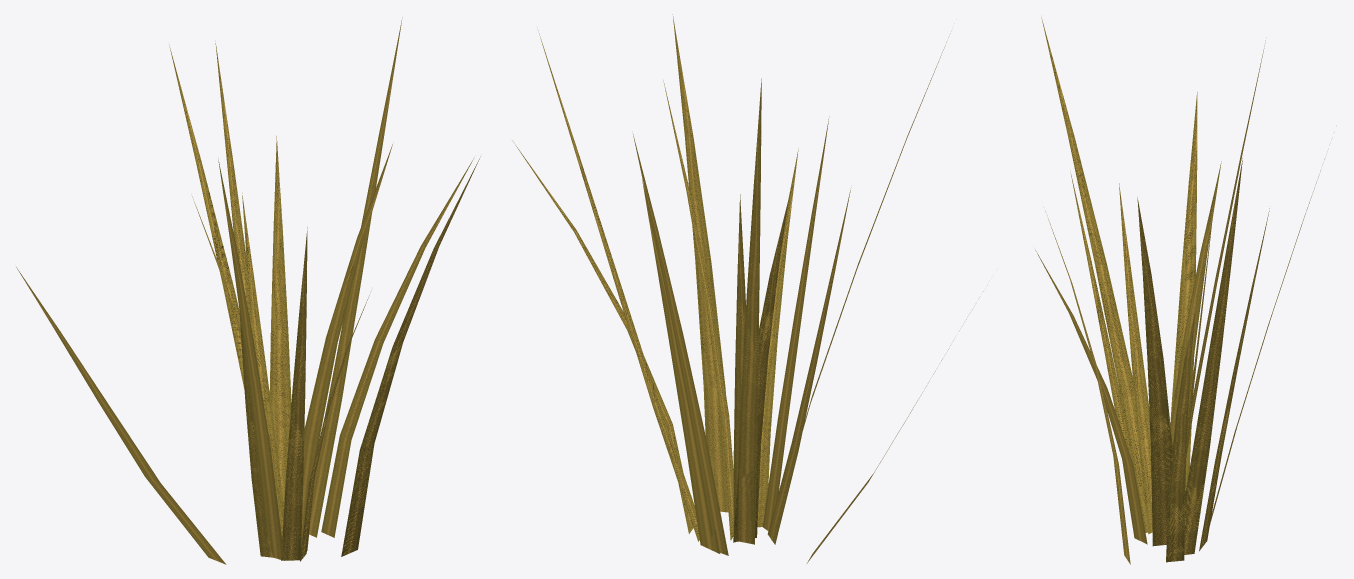
Rendered from Foliage.obj.
3 renders of one model, left to right at view 1: azimuth 30°, elevation 25°; view 2: azimuth 150°, elevation 25°; view 3: azimuth 270°, elevation 25°, orthographic. The views are drawn at different scales.
Visible parts, largest first — view 1: Foliage; view 2: Foliage; view 3: Foliage.
Part boxes in pixels (x1,y1,x2,y2): Foliage: (16,18,480,564); Foliage: (512,14,983,563); Foliage: (1035,17,1324,564).
Size of the model in its own units: 0.8853 by 0.8931 by 0.5218.
Materials: 1 (1 with a texture image).
